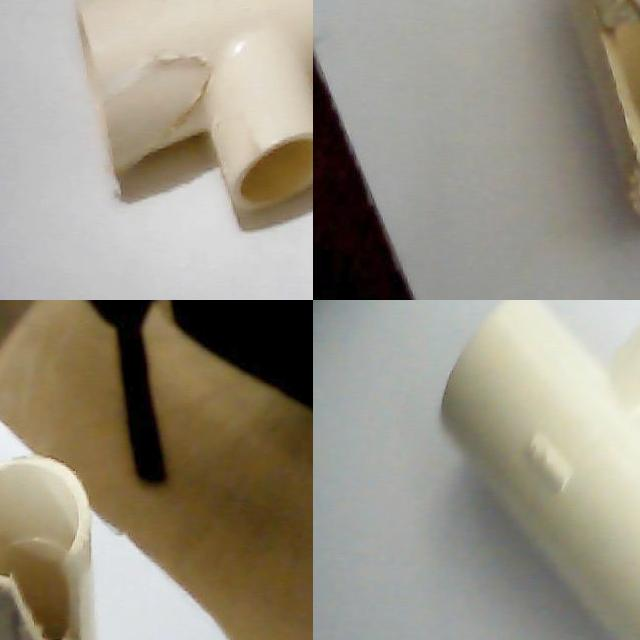Defective: (105, 36, 218, 176), (10, 562, 86, 640), (601, 0, 640, 140)
T Joint: (439, 300, 640, 640), (0, 456, 99, 640)
